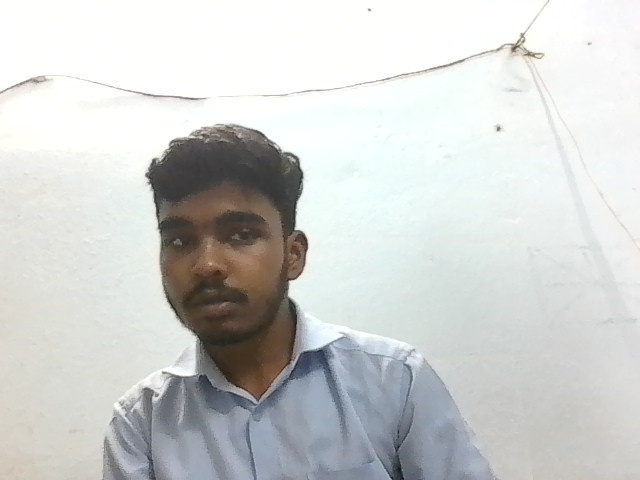real: (148, 120, 314, 356)
